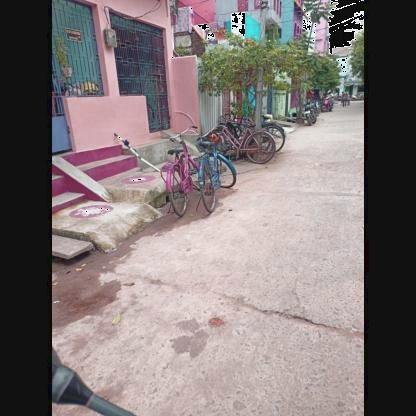Bicycle: (151, 125, 198, 223), (195, 133, 238, 225)
